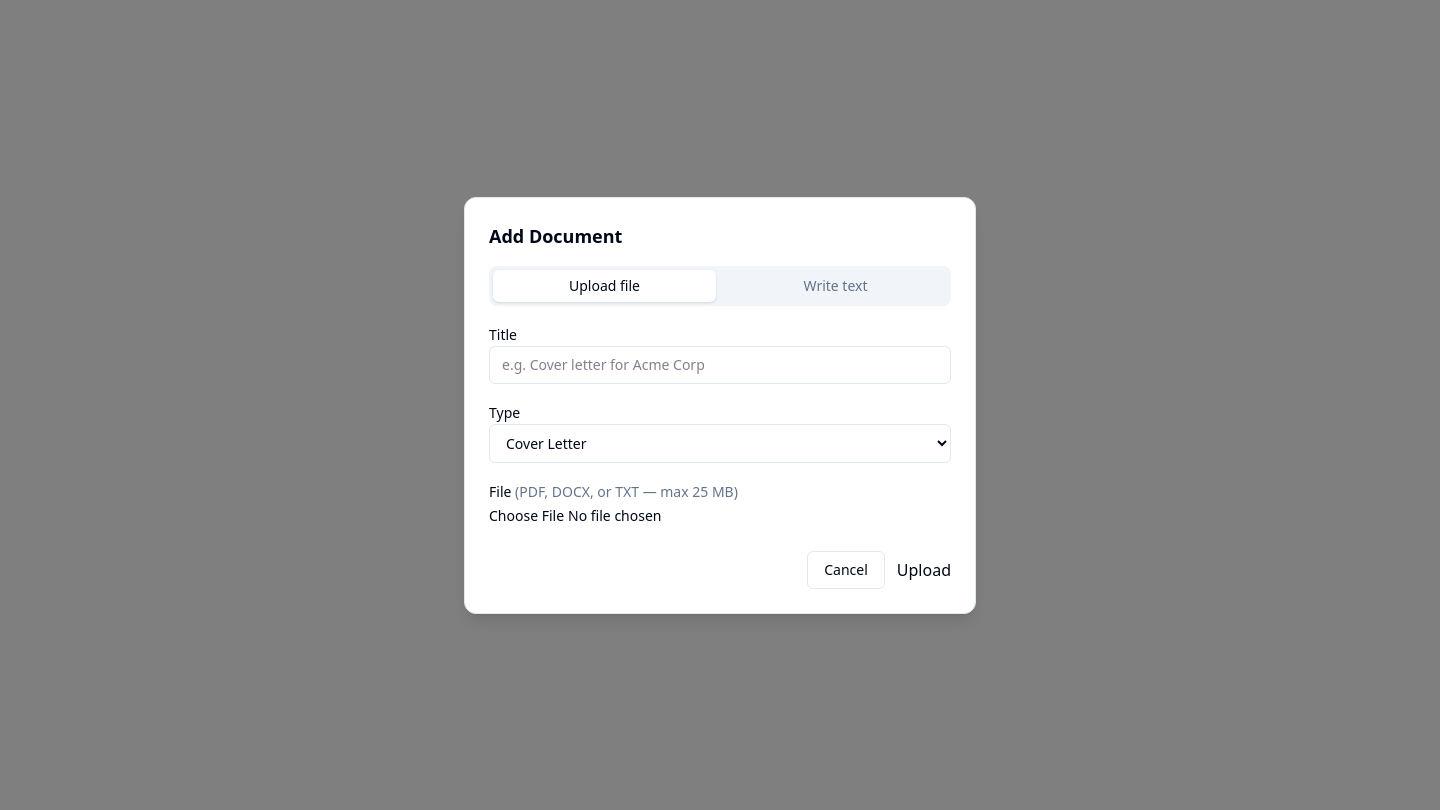
Test: DocumentUploadDialog › switches to text mode when 'Write text' is clicked
Step 1. Click the button "Write text" → [836, 286], box [724,270,947,302]
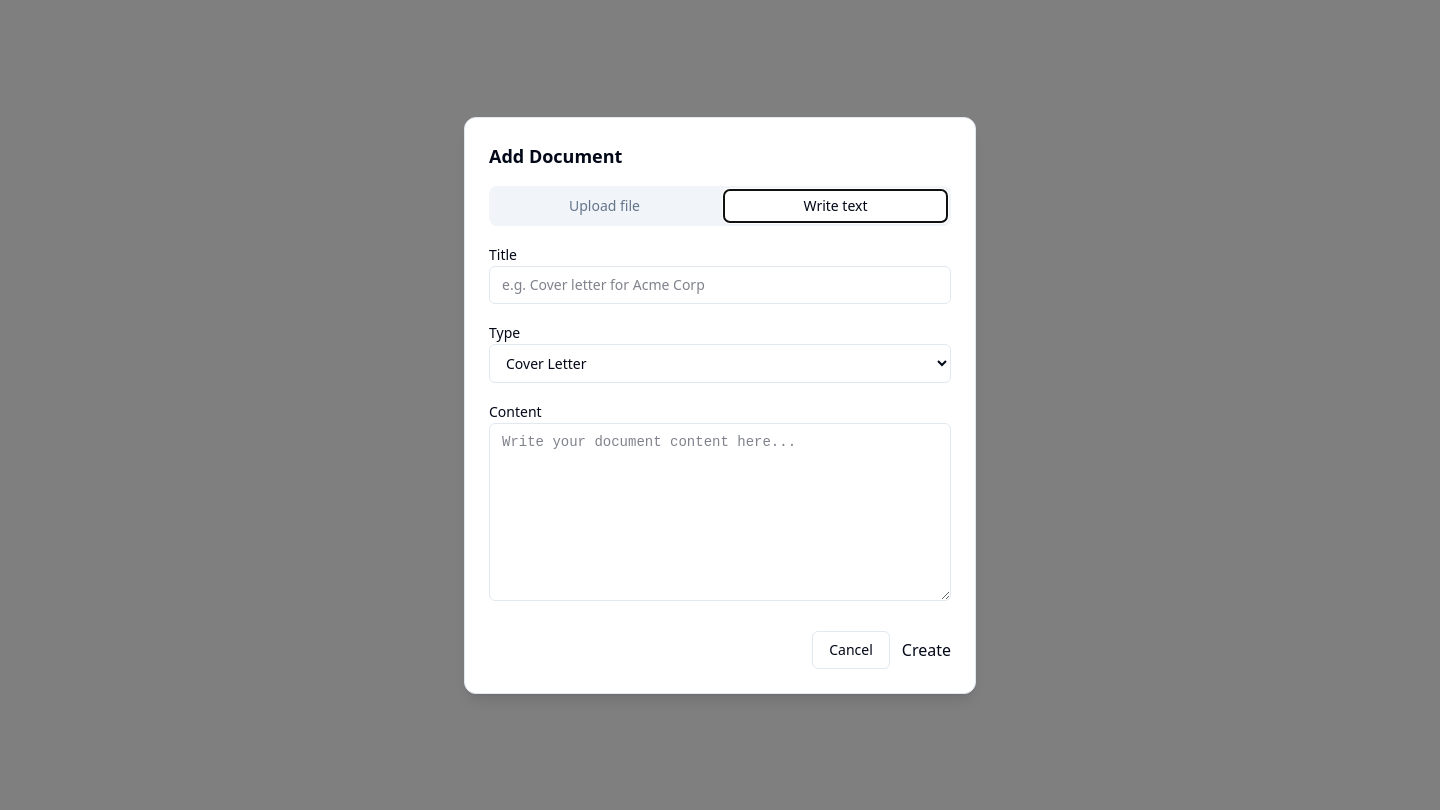
Expected: the text box labelled "Content" is shown, [489,422,951,600]
